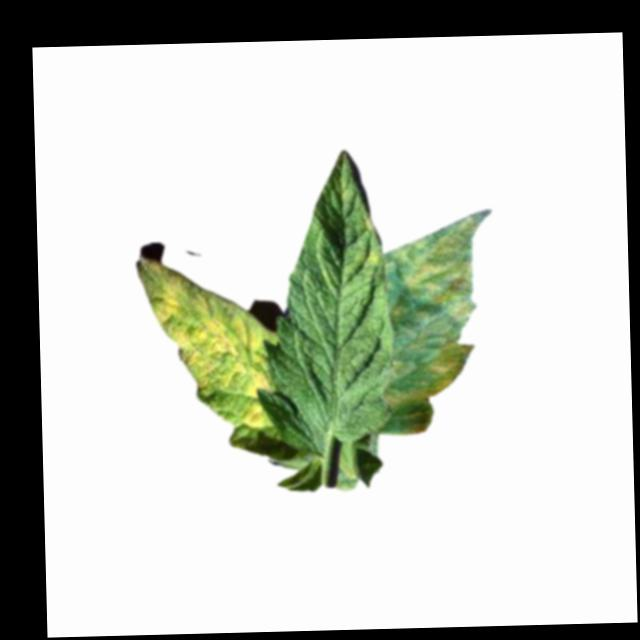Leaf_Mold: (134, 249, 281, 431), (382, 207, 495, 435), (355, 216, 382, 263)
